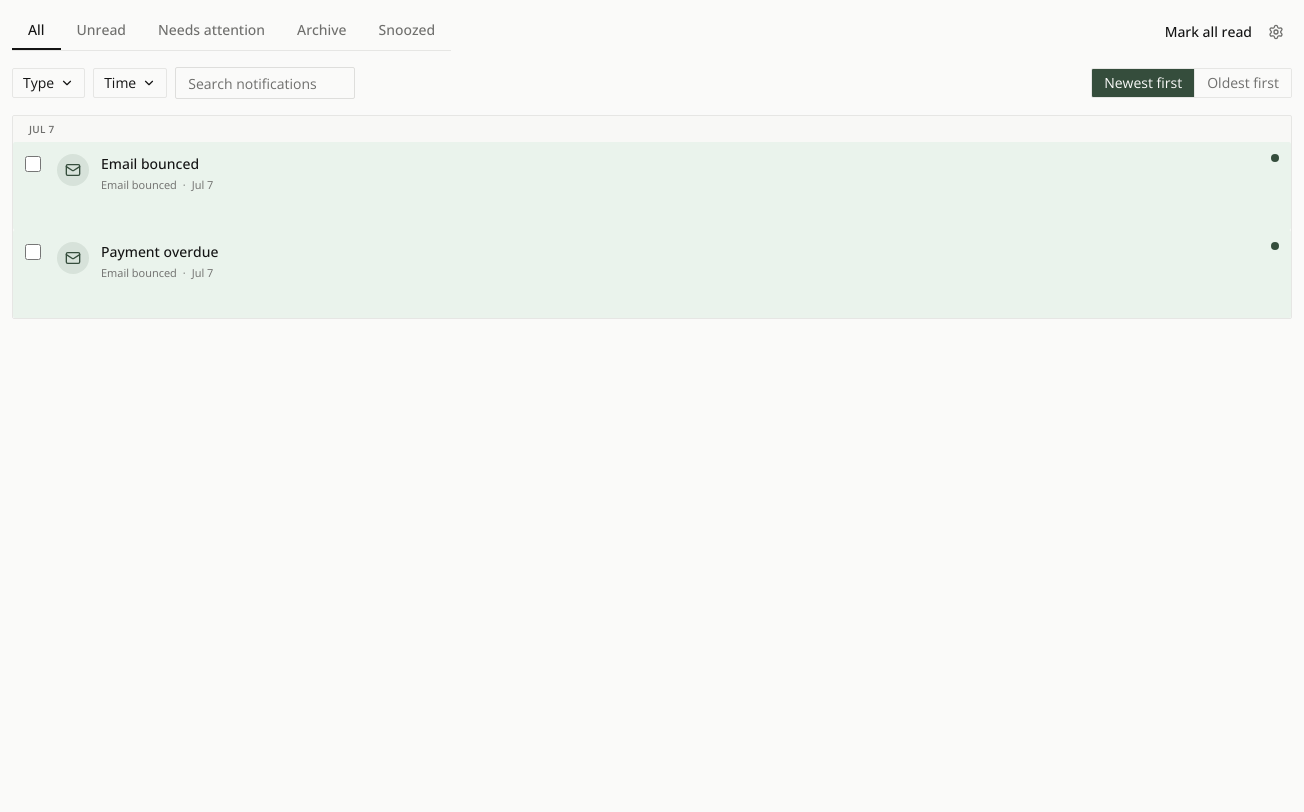
Test: NotificationsPageClient — undo snackbar after bulk archive (E5) › manually dismissing the snackbar hides it
Click the 1st checkbox with test id "notification-select-checkbox" at (33, 164), box left=25, top=156, right=41, bottom=172
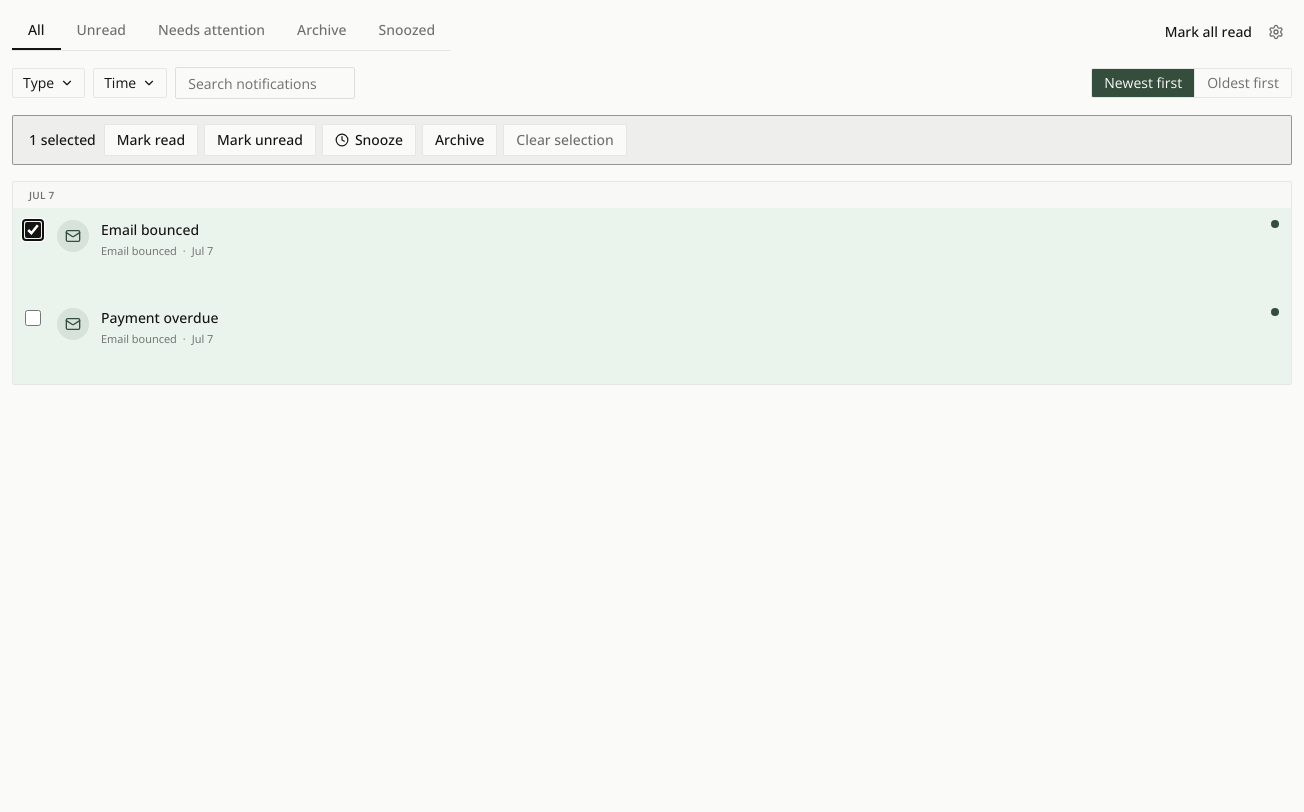
Click the button with test id "bulk-action-archive" at (460, 140), box left=422, top=124, right=497, bottom=156
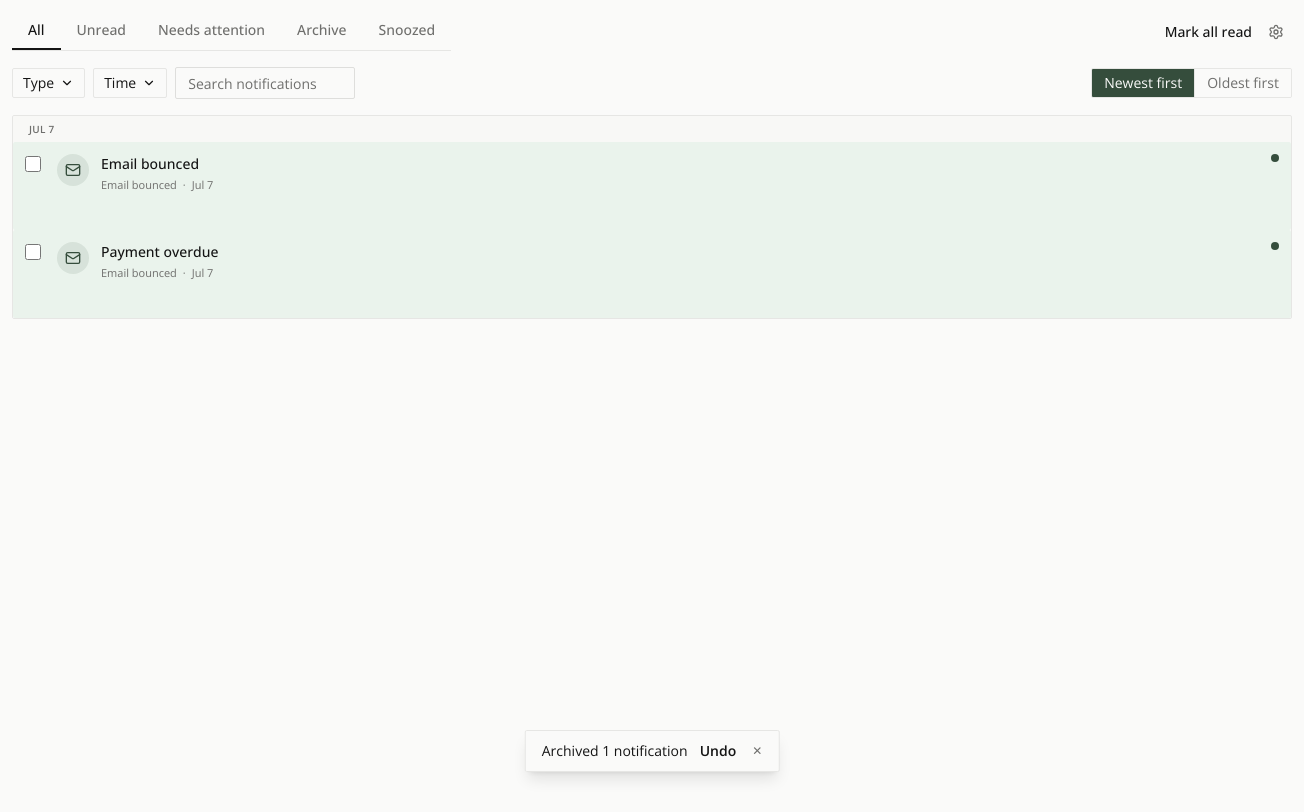
Result: the message "Archived 1 notification Undo ✕" is shown at left=525, top=730, right=779, bottom=772
Click dismiss button
Click the button with test id "undo-snackbar-dismiss" at (757, 751), box left=752, top=743, right=762, bottom=759
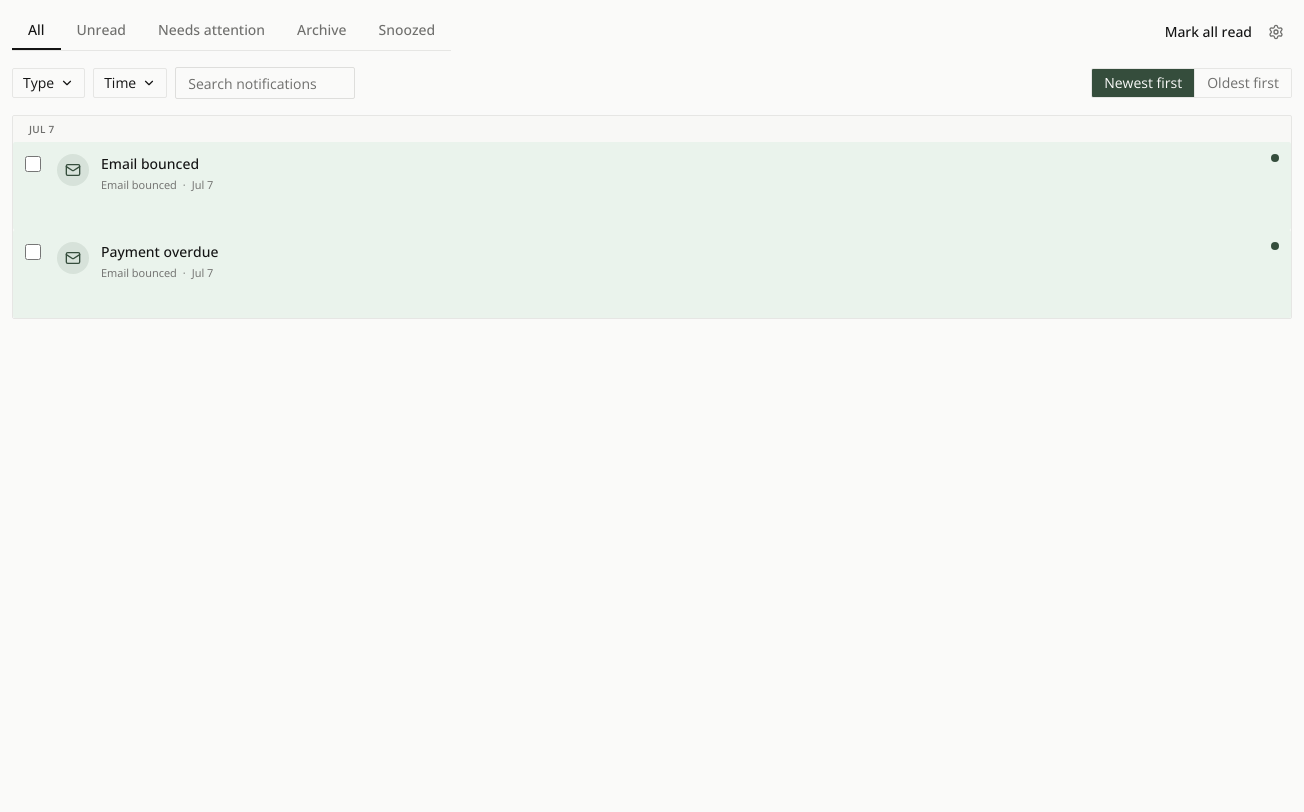
Result: the message with test id "undo-snackbar" is gone
